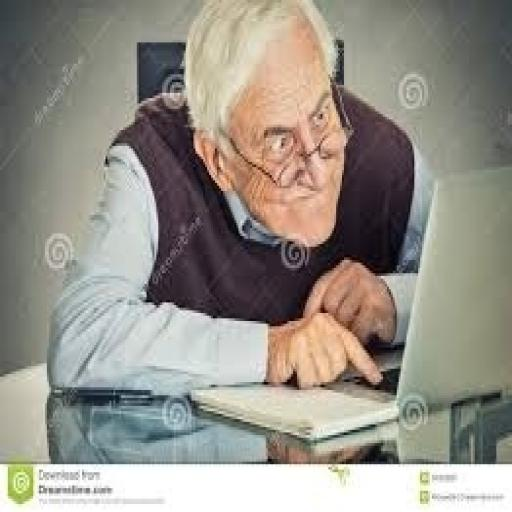using_laptop: (188, 162, 510, 446)
